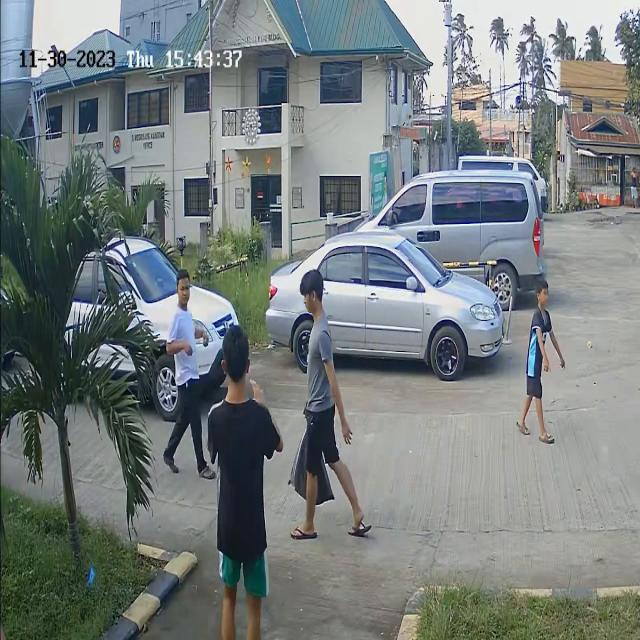person: (296, 266, 340, 397), (526, 278, 570, 388), (220, 322, 258, 447), (166, 273, 214, 363)
